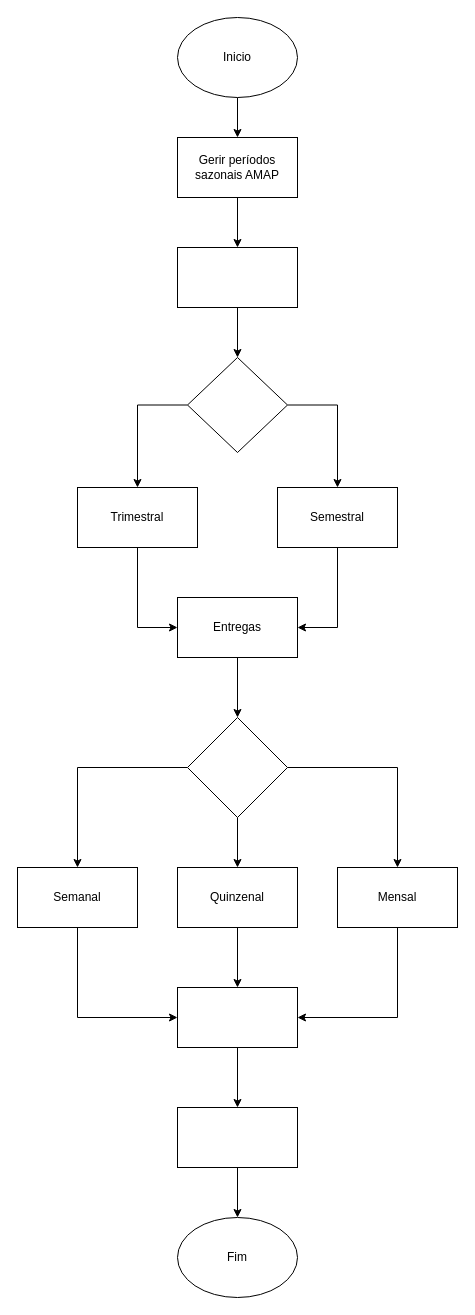
Some shapes in this 475 by 1315 pixel diagram are drawn without their labels. The box of each missing label's shape, as (x1, y1, x2, y2) in pixels:
Criar período sazonal: (176, 246, 298, 308)
Definir frequência de entregas: (186, 716, 288, 818)
Definir local e hora: (176, 986, 298, 1048)
Definir período sazonal: (186, 356, 288, 452)
Notificar produtores: (176, 1106, 298, 1168)
